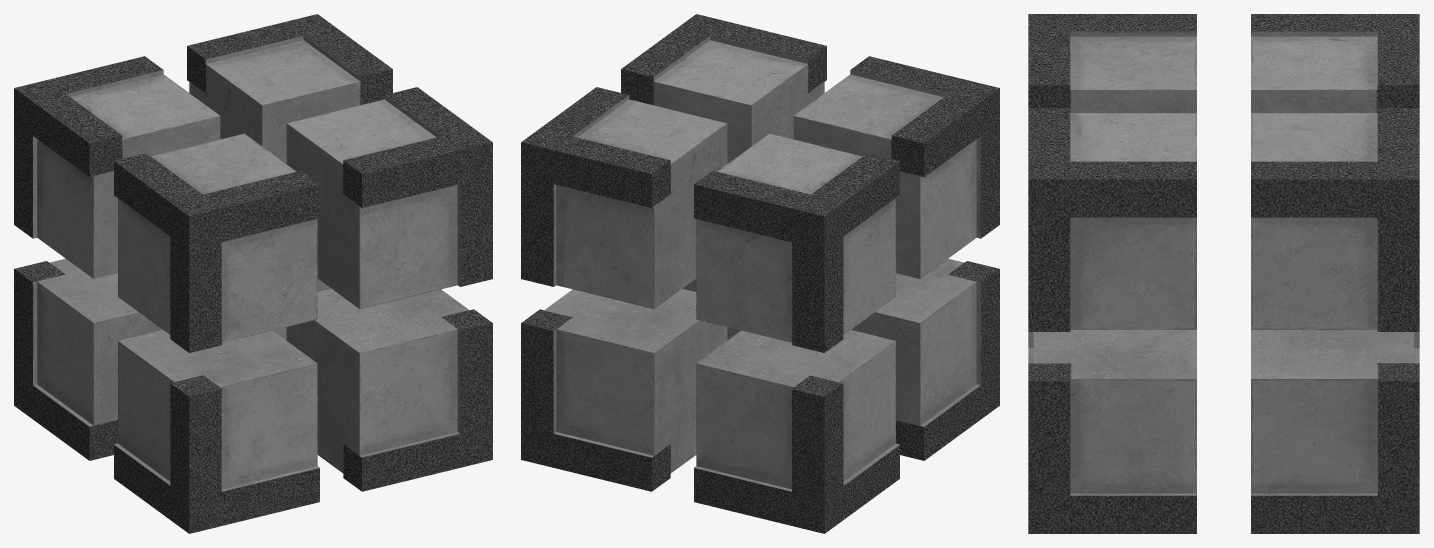
3 renders of one model, left to right at view 1: azimuth 30°, elevation 25°; view 2: azimuth 150°, elevation 25°; view 3: azimuth 270°, elevation 25°, orthographic. The views are drawn at different scales.
Parts seen in each view (by area): view 1: cubeMetal; view 2: cubeMetal; view 3: cubeMetal.
Part boxes in pixels (box(x1,y1,x2,y2)): cubeMetal: box(14, 14, 492, 533); cubeMetal: box(521, 14, 999, 533); cubeMetal: box(1028, 14, 1419, 533).
Bounding box in the file's own units: 0.836 × 0.836 × 0.836.
Materials: 1 (1 with a texture image).
